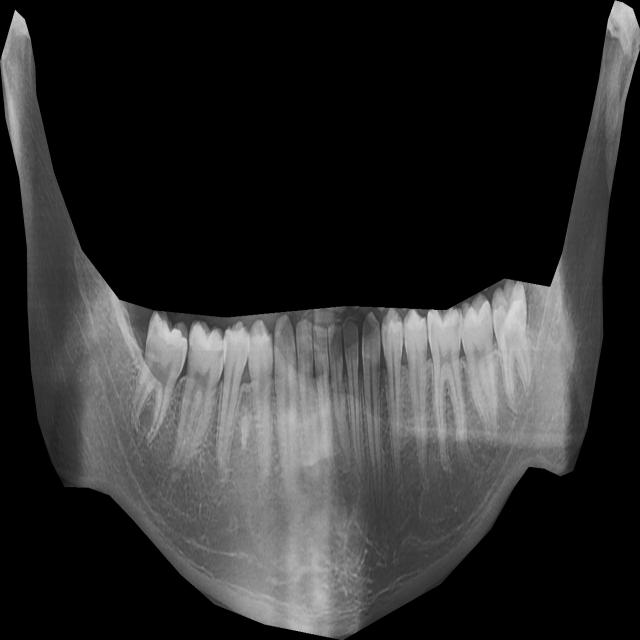mandibula: (0, 0, 640, 640)
